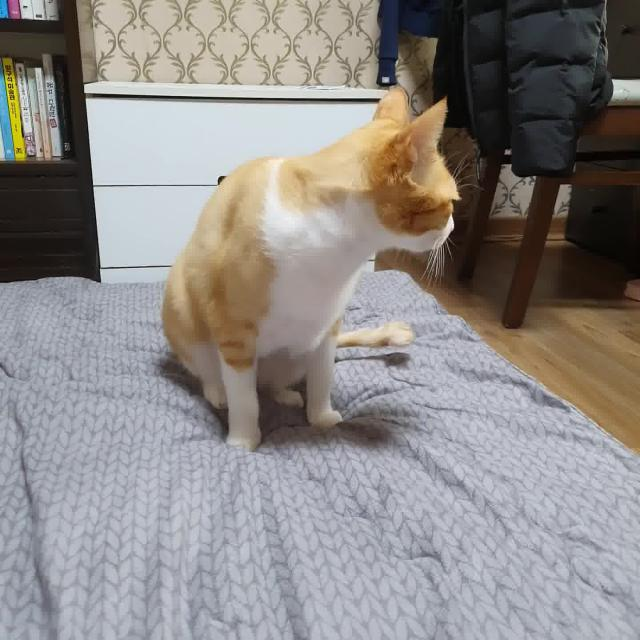cat: (158, 77, 464, 459)
